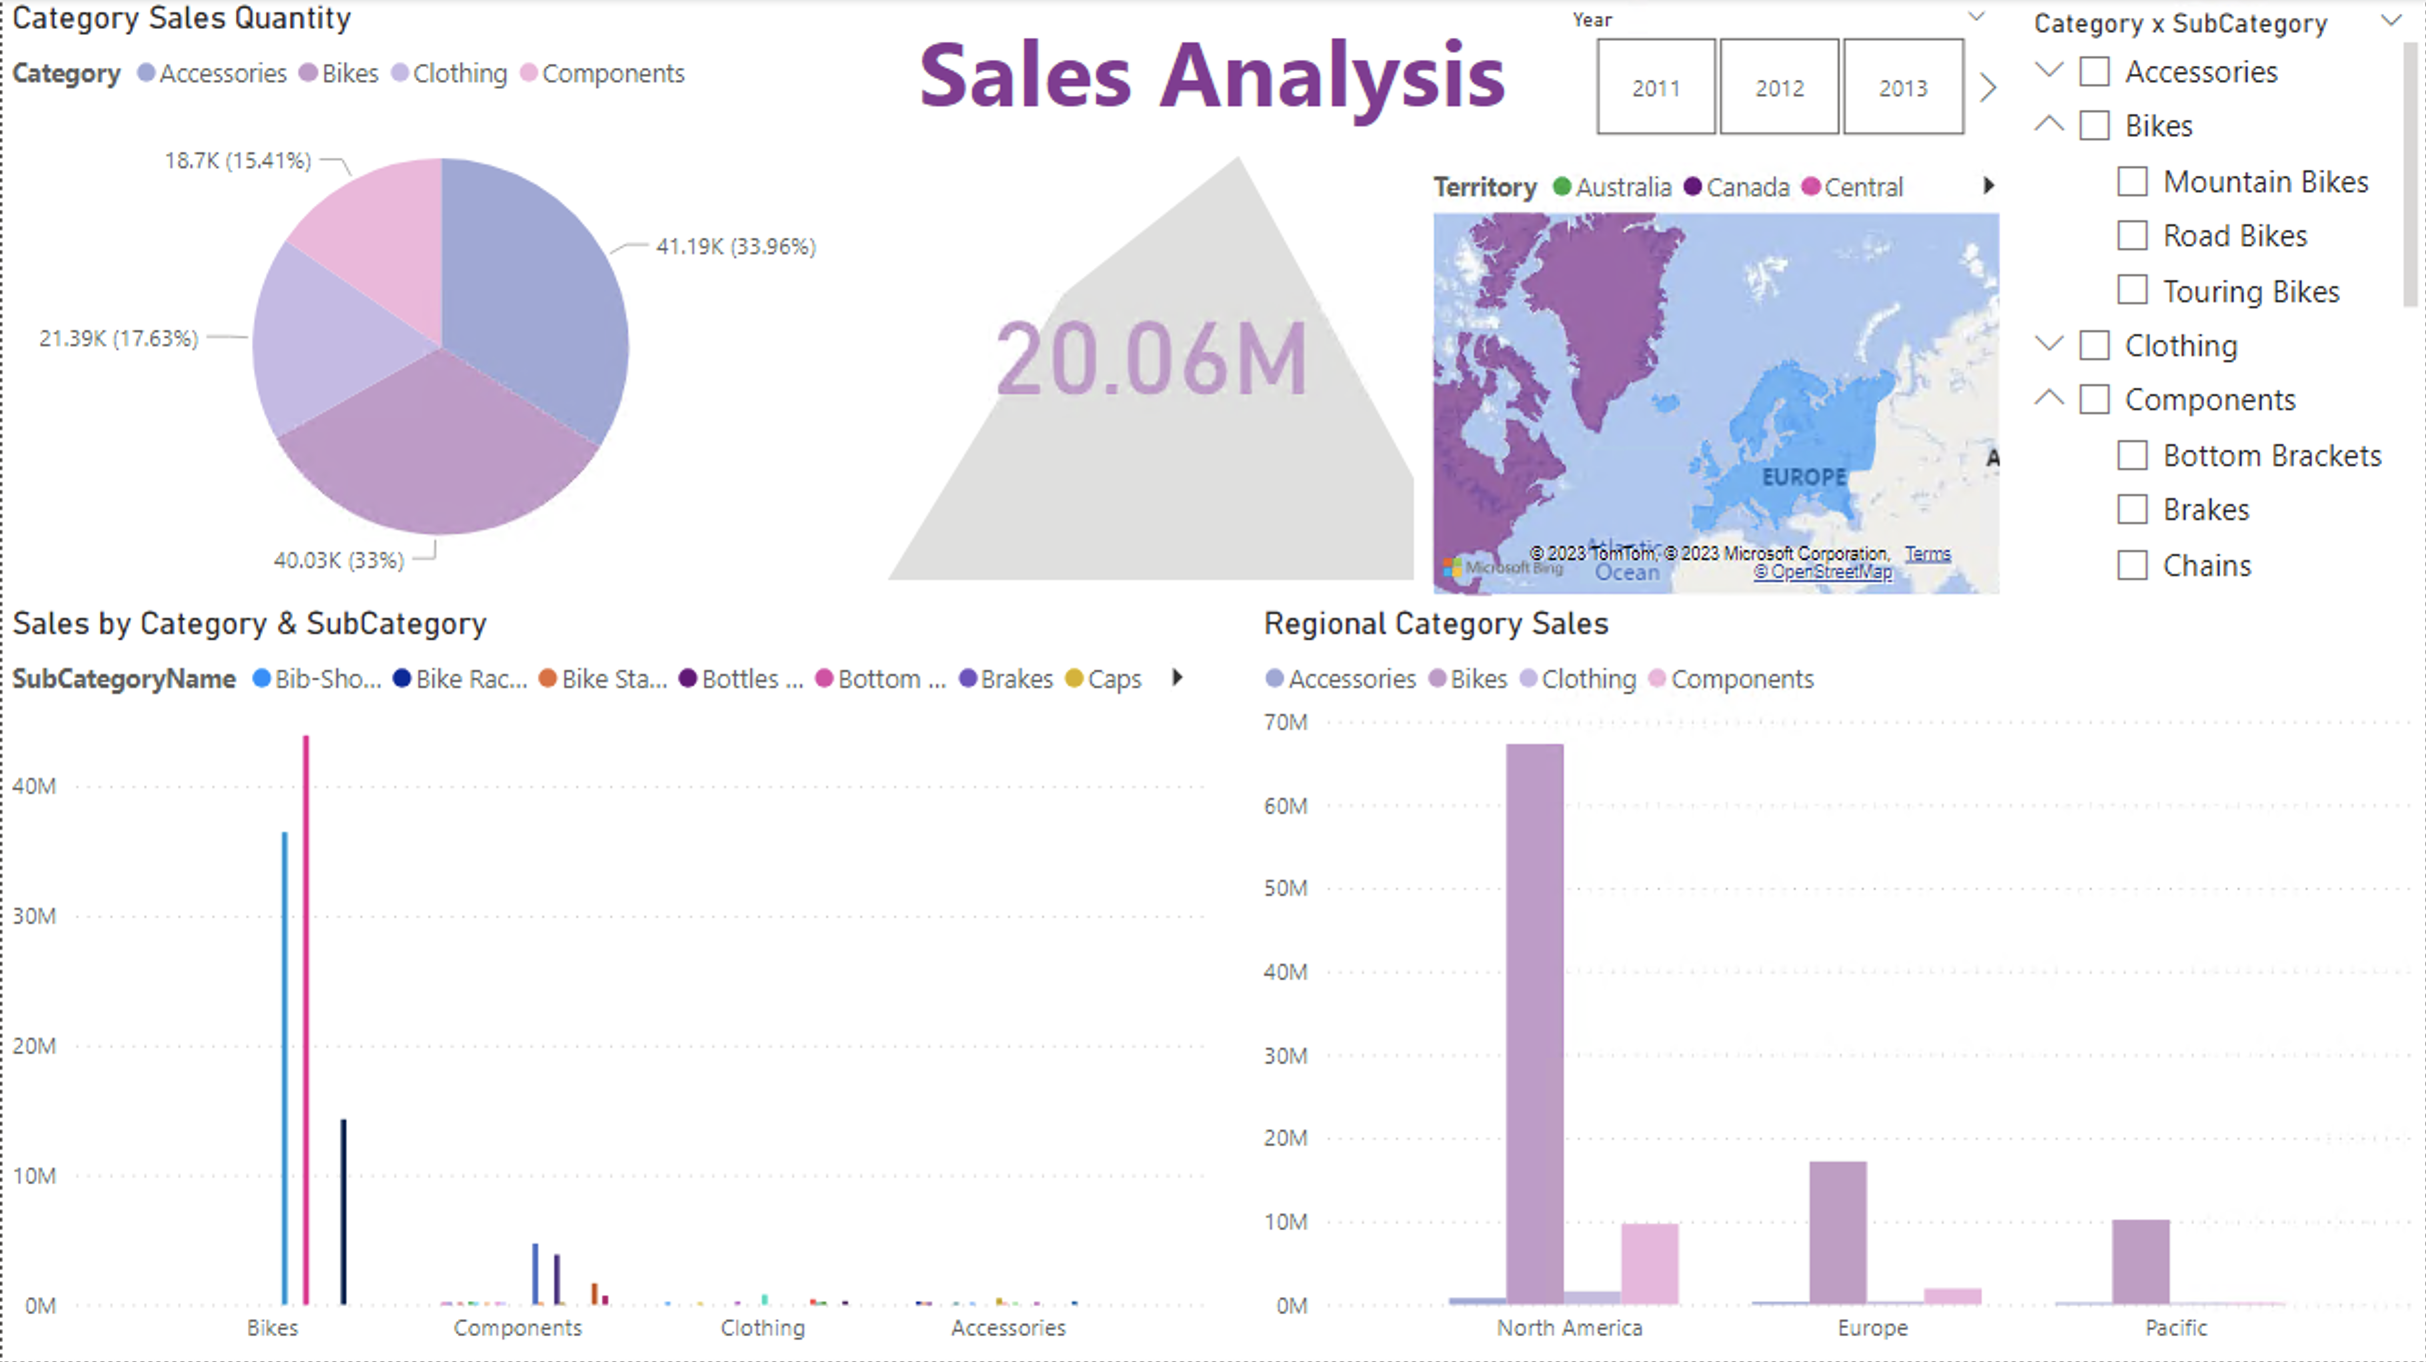

The dashboard page shown, as its layout file describes it:
{"tool":"powerbi","page":{"name":"Sales Analysis","canvas":[1280,720],"ordinal":1},"visuals":[{"type":"clusteredColumnChart","title":"Regional Category Sales","fields":{"Y":["Sum(Data.TotalSale)"],"Category":["Data.Area"],"Series":["Data.CategoryName"]},"box":[660.4,320,619.6,400.3],"z":0},{"type":"clusteredColumnChart","title":"Sales by Category & SubCategory","fields":{"Category":["Data.CategoryName"],"Series":["Data.SubCategoryName"],"Y":["Sum(Data.TotalSale)"]},"box":[0,320,640,400.3],"z":1000},{"type":"pieChart","title":"Category Sales Quantity","fields":{"Y":["CountNonNull(Data.TotalSale)"],"Category":["Data.CategoryName"]},"box":[0,0,462.5,320.1],"z":2000},{"type":"textbox","box":[462.8,0,353.1,79],"z":3000},{"type":"kpi","title":"2013 Sales","fields":{"TrendLine":["Data.SaleDate.Variation.Date Hierarchy.Year"],"Indicator":["Sum(Data.TotalSale)"]},"box":[462.5,78.6,288.2,233.5],"z":4000},{"type":"slicer","fields":{"Values":["Data.SaleDate.Variation.Date Hierarchy.Year"]},"box":[815.9,0,243.5,79],"z":5000},{"type":"slicer","fields":{"Values":["Data.CategoryName","Data.SubCategoryName"]},"box":[1059.4,0,220.6,320],"z":6000},{"type":"filledMap","title":"Sales & Profits","fields":{"Category":["Data.Area"],"Series":["Data.Territory"]},"box":[750.9,79,308.5,241],"z":7000}]}

Visuals, with their boxes on the page's 1280x720 design canvas (x1, y1, x2, y2). These are canvas units, not pixel positions in the 2426x1362 screenshot, which may show the page scaled, cropped or inside an application window:
"Regional Category Sales" clusteredColumnChart: {"x1": 660, "y1": 320, "x2": 1280, "y2": 720}
"Sales by Category & SubCategory" clusteredColumnChart: {"x1": 0, "y1": 320, "x2": 640, "y2": 720}
"Category Sales Quantity" pieChart: {"x1": 0, "y1": 0, "x2": 462, "y2": 320}
textbox: {"x1": 463, "y1": 0, "x2": 816, "y2": 79}
"2013 Sales" kpi: {"x1": 462, "y1": 79, "x2": 751, "y2": 312}
slicer - Data.SaleDate.Variation.Date Hierarchy.Year: {"x1": 816, "y1": 0, "x2": 1059, "y2": 79}
slicer - Data.CategoryName x Data.SubCategoryName: {"x1": 1059, "y1": 0, "x2": 1280, "y2": 320}
"Sales & Profits" filledMap: {"x1": 751, "y1": 79, "x2": 1059, "y2": 320}
